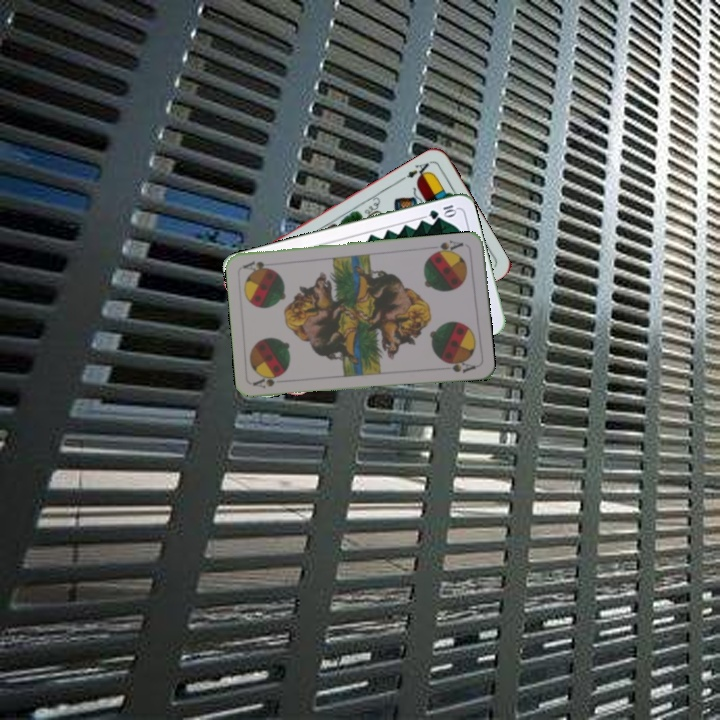EA: (402, 157, 434, 183)
G10: (425, 201, 459, 222)
SA: (428, 236, 466, 258), (250, 372, 290, 391)
